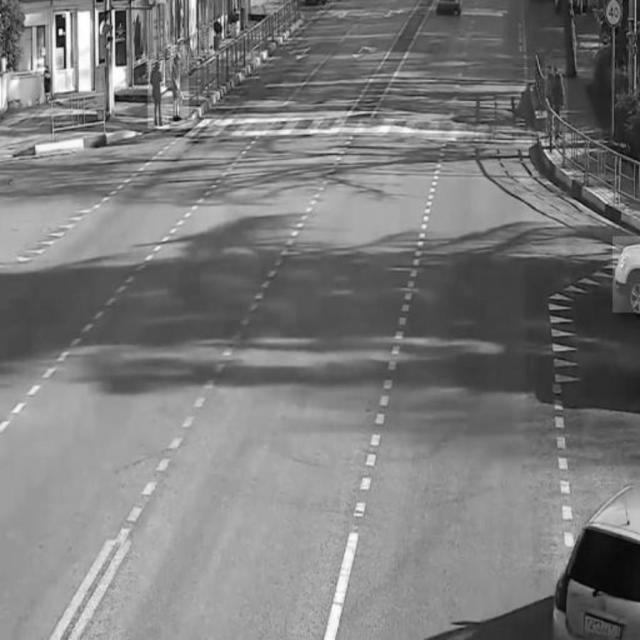person: (544, 59, 568, 136), (169, 45, 189, 118), (148, 60, 168, 128)
vehicle: (549, 484, 640, 638), (613, 237, 640, 313)
